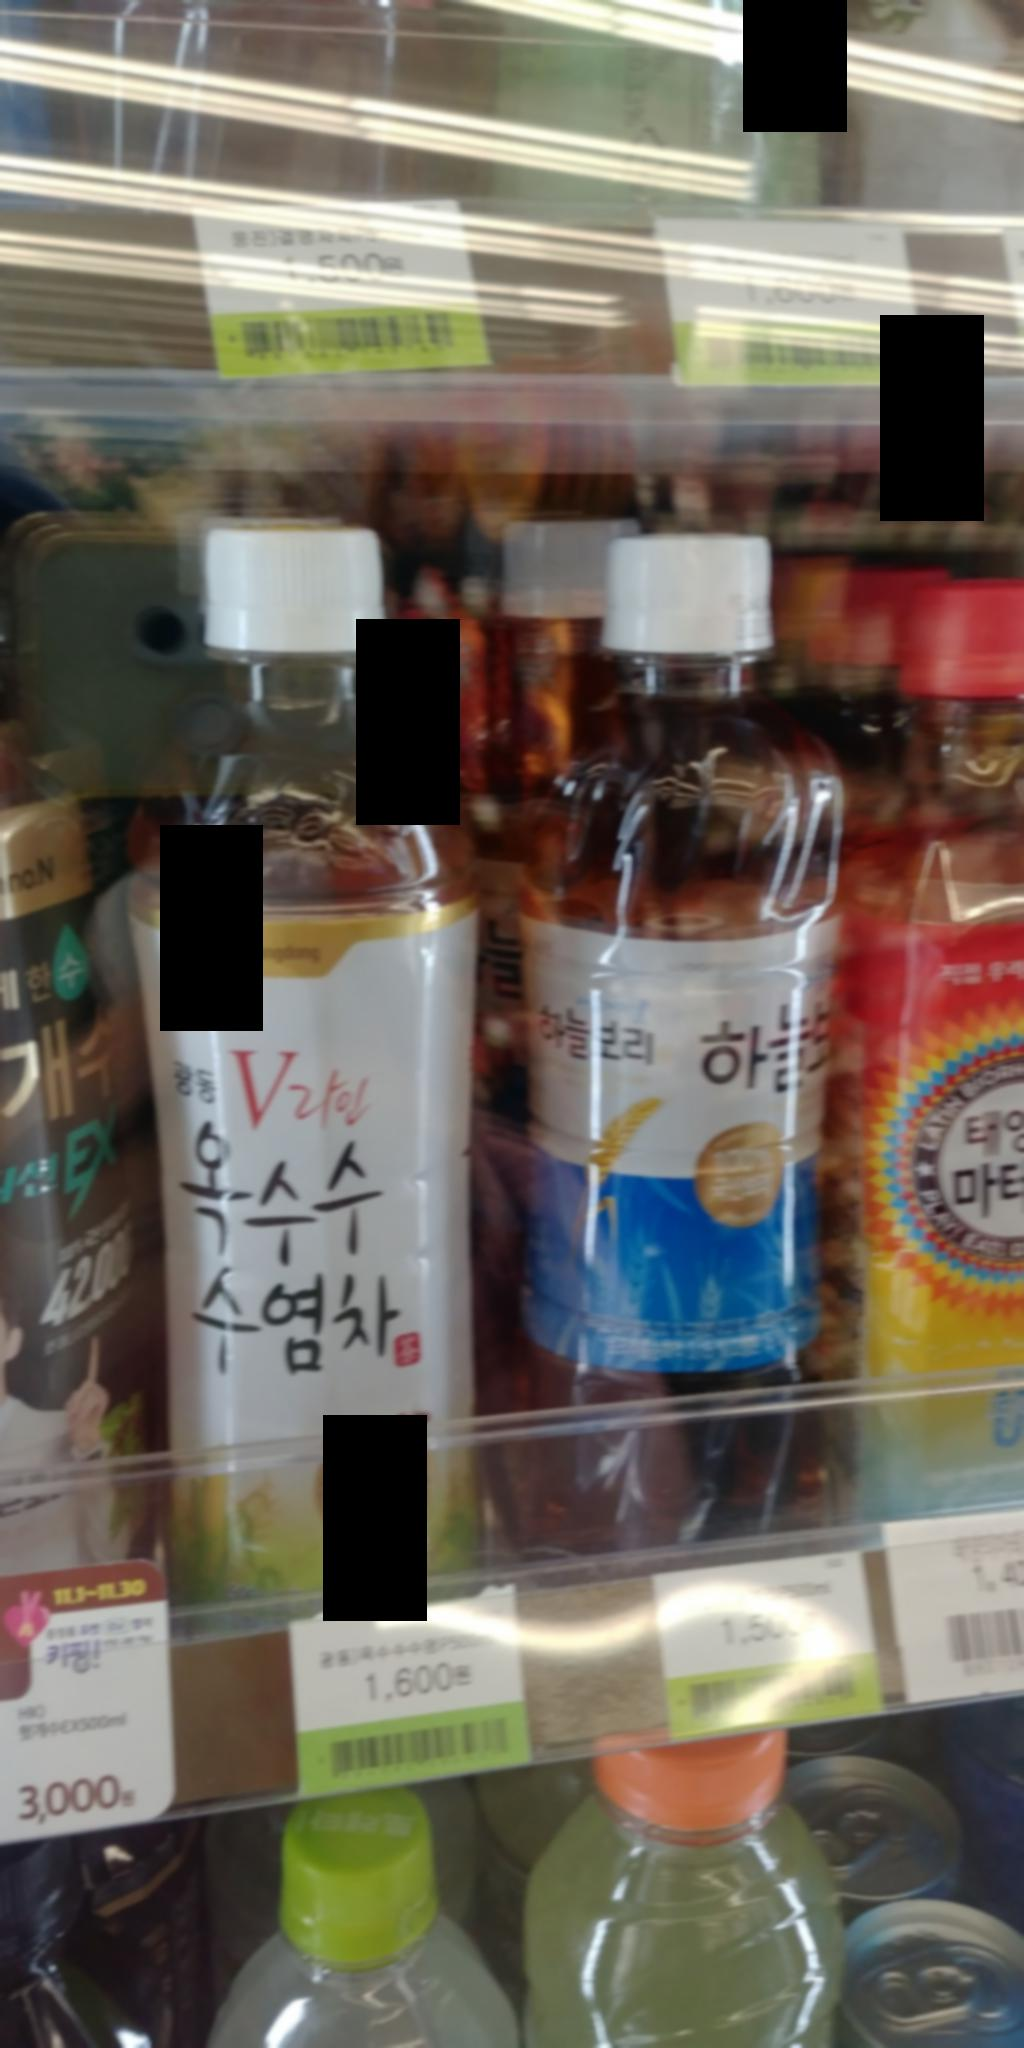haneulbori: (498, 509, 850, 1557)
oksususuyeomcha: (107, 526, 498, 1587)
